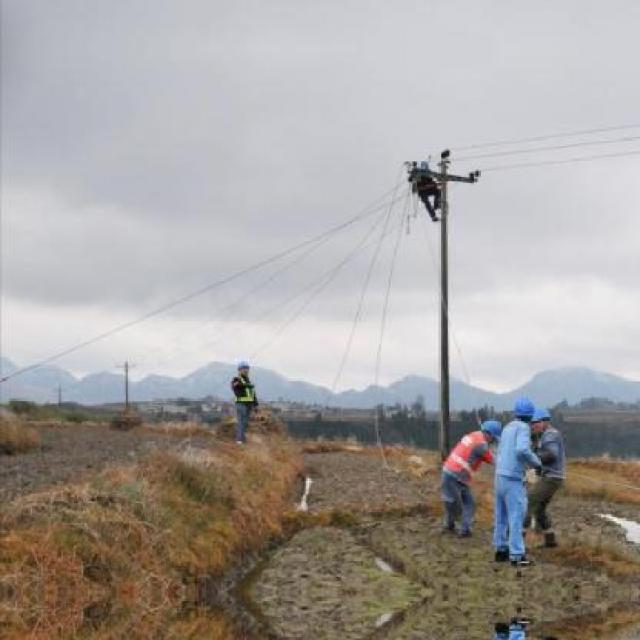Reflective-Jacket: (437, 428, 491, 483), (535, 426, 574, 485), (226, 375, 260, 408)
Safety-Helmet: (474, 414, 506, 441), (509, 394, 538, 420), (528, 403, 557, 426), (232, 356, 255, 376)
